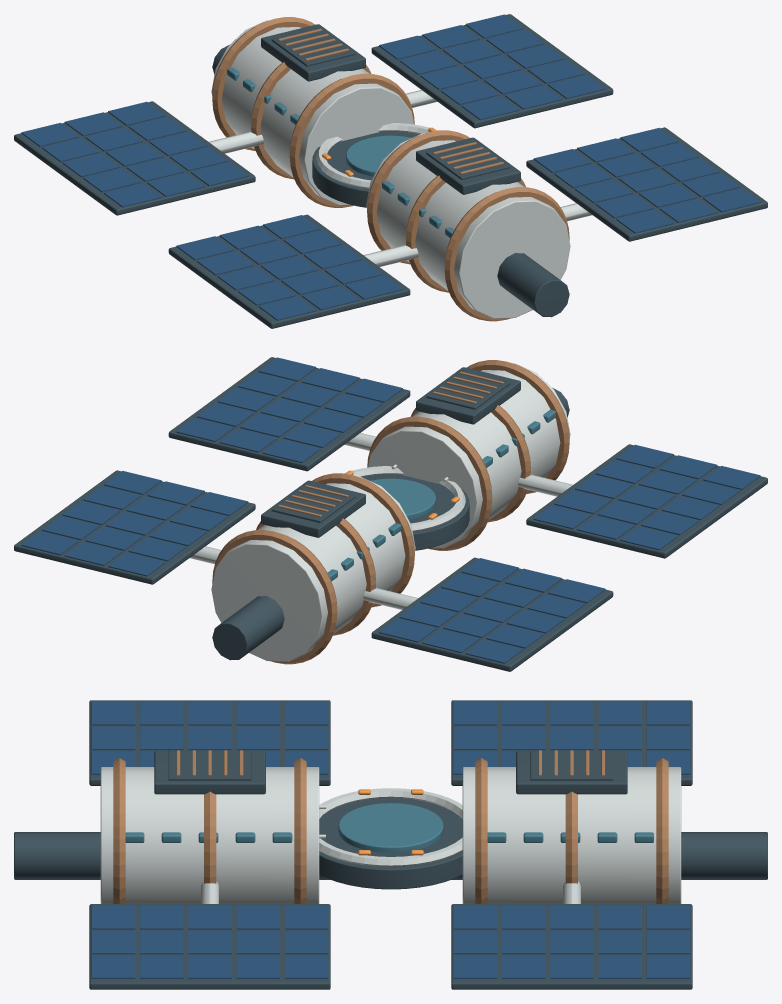
File: OrbitalHabitat115.fbx
3 renders of one model, top to bottom at view 1: azimuth 30°, elevation 25°; view 2: azimuth 150°, elevation 25°; view 3: azimuth 270°, elevation 25°, orthographic. The views are drawn at different scales.
Visible parts, largest first — view 1: Pressure hull, Pressure hull.001, Radiator perimeter frame.003, Radiator perimeter frame, Radiator perimeter frame.001, Radiator perimeter frame.002, Central service spine, Hull segment collar, Hull segment collar.003, Central docking collar, Hull segment collar.002, Hull segment collar.005 (+70 smaller); view 2: Pressure hull.001, Pressure hull, Radiator perimeter frame.001, Radiator perimeter frame.002, Radiator perimeter frame.003, Radiator perimeter frame, Central service spine, Hull segment collar.005, Hull segment collar.002, Central docking collar, Hull segment collar.003, Hull segment collar (+70 smaller); view 3: Pressure hull.001, Pressure hull, Central service spine, Radiator perimeter frame.001, Radiator perimeter frame.003, Central docking collar, Airlock port, Radiator perimeter frame, Radiator perimeter frame.002, Dock guide rim, Equipment pallet, Equipment pallet.001 (+62 smaller).
Boxes of the visible parts, left/top/right/bottom form: Pressure hull: left=366, top=133, right=570, bottom=318; Pressure hull.001: left=211, top=20, right=413, bottom=205; Radiator perimeter frame.003: left=371, top=14, right=613, bottom=128; Radiator perimeter frame: left=168, top=214, right=410, bottom=328; Radiator perimeter frame.001: left=526, top=127, right=767, bottom=241; Radiator perimeter frame.002: left=14, top=101, right=255, bottom=215; Central service spine: left=212, top=45, right=569, bottom=317; Hull segment collar: left=444, top=187, right=569, bottom=321; Hull segment collar.003: left=289, top=73, right=414, bottom=207; Central docking collar: left=312, top=131, right=419, bottom=207; Hull segment collar.002: left=367, top=130, right=469, bottom=264; Hull segment collar.005: left=212, top=17, right=315, bottom=150; Pressure hull.001: left=211, top=476, right=415, bottom=661; Pressure hull: left=368, top=363, right=570, bottom=548; Radiator perimeter frame.001: left=168, top=357, right=410, bottom=471; Radiator perimeter frame.002: left=371, top=557, right=613, bottom=671; Radiator perimeter frame.003: left=14, top=470, right=255, bottom=584; Radiator perimeter frame: left=526, top=444, right=767, bottom=558; Central service spine: left=212, top=388, right=569, bottom=660; Hull segment collar.005: left=212, top=530, right=337, bottom=664; Hull segment collar.002: left=367, top=416, right=492, bottom=550; Central docking collar: left=362, top=474, right=469, bottom=550; Hull segment collar.003: left=312, top=473, right=414, bottom=607; Hull segment collar: left=466, top=360, right=569, bottom=493; Pressure hull.001: left=462, top=767, right=681, bottom=903; Pressure hull: left=100, top=767, right=319, bottom=903; Central service spine: left=14, top=832, right=767, bottom=879; Radiator perimeter frame.001: left=89, top=904, right=330, bottom=989; Radiator perimeter frame.003: left=451, top=904, right=692, bottom=989; Central docking collar: left=319, top=798, right=462, bottom=889; Airlock port: left=338, top=803, right=443, bottom=852; Radiator perimeter frame: left=89, top=700, right=330, bottom=785; Radiator perimeter frame.002: left=451, top=700, right=692, bottom=785; Dock guide rim: left=319, top=788, right=462, bottom=866; Equipment pallet: left=154, top=750, right=265, bottom=794; Equipment pallet.001: left=516, top=750, right=627, bottom=794.
Size of the model in its own units: 890 by 229 by 1000.
